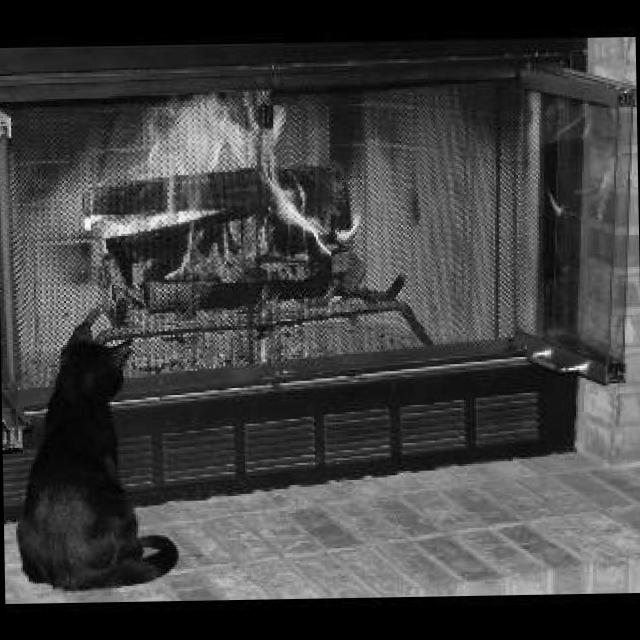fire: (88, 104, 332, 285)
